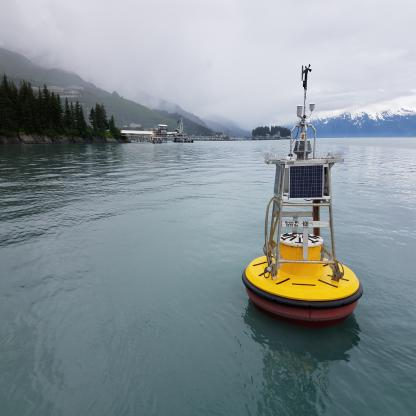buoy: (238, 51, 368, 326)
